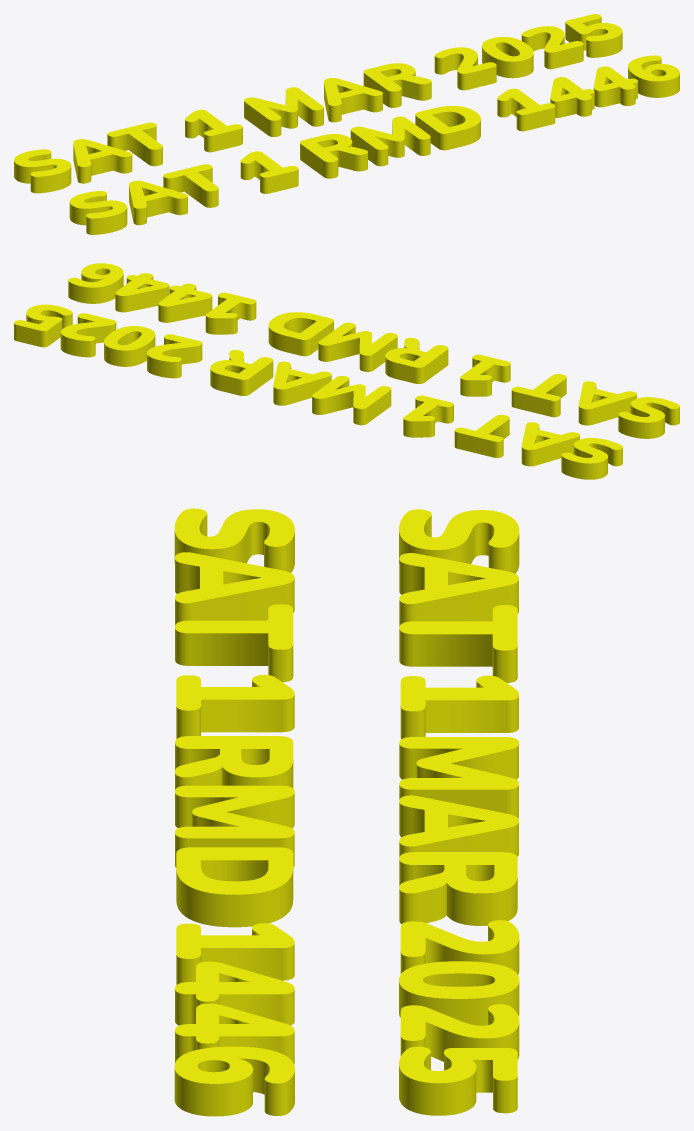
Rendered from Date_Text.fbx.
The picture shows the model from 3 angles, top to bottom: view 1: azimuth 30°, elevation 25°; view 2: azimuth 150°, elevation 25°; view 3: azimuth 270°, elevation 25°; orthographic projection. The views are drawn at different scales.
Visible parts, largest first — view 1: Date_Text; view 2: Date_Text; view 3: Date_Text.
Boxes of the visible parts, box(x1,y1,x2,y2) form: Date_Text: box(14, 14, 679, 234); Date_Text: box(14, 263, 679, 479); Date_Text: box(174, 508, 519, 1116).
Size of the model in its own units: 6.07 by 1.54 by 0.16.
